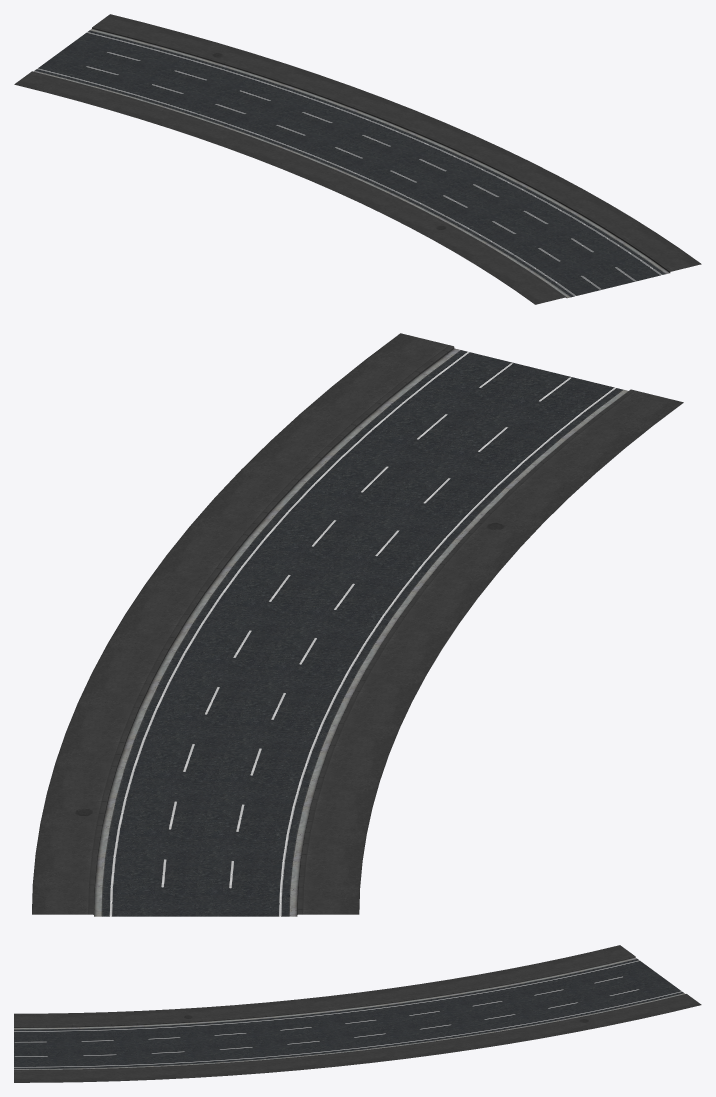
Rendered from city_road_3ways30left.fbx.
3 views of the same model, one above another, from view 1: azimuth 30°, elevation 25°; view 2: azimuth 150°, elevation 25°; view 3: azimuth 270°, elevation 25° (orthographic). The views are drawn at different scales.
Parts seen in each view (by area): view 1: obj0; view 2: obj0; view 3: obj0.
Boxes of the visible parts, x1=… form: obj0: x1=14, y1=14, x2=701, y2=304; obj0: x1=32, y1=333, x2=683, y2=916; obj0: x1=14, y1=945, x2=701, y2=1082.
Bounding box in the file's own units: 73.36 × 0.254 × 155.
